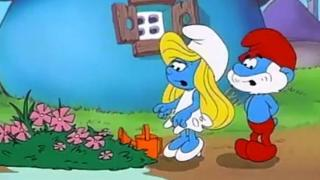smurf: (155, 25, 225, 162), (231, 24, 296, 162)
